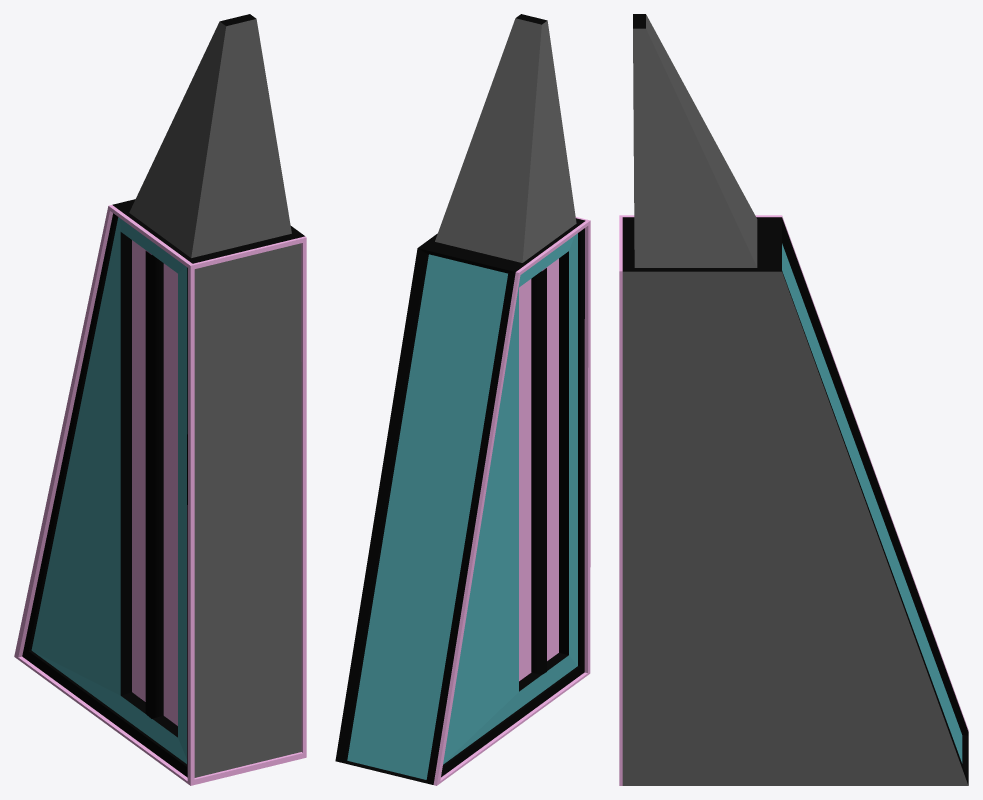
The model's file is SM_Environment_Buildings_Mid_03.fbx.
3 renders of one model, left to right at view 1: azimuth 30°, elevation 25°; view 2: azimuth 150°, elevation 25°; view 3: azimuth 270°, elevation 25°, orthographic. The views are drawn at different scales.
Parts seen in each view (by area): view 1: SM_Environment_Buildings_Mid_03, Lights; view 2: SM_Environment_Buildings_Mid_03, Lights; view 3: SM_Environment_Buildings_Mid_03, Lights.
Part boxes in pixels (x1=…): SM_Environment_Buildings_Mid_03: x1=22, y1=14, x2=304, y2=777; Lights: x1=14, y1=205, x2=306, y2=785; SM_Environment_Buildings_Mid_03: x1=335, y1=14, x2=585, y2=784; Lights: x1=433, y1=217, x2=590, y2=785; SM_Environment_Buildings_Mid_03: x1=622, y1=14, x2=968, y2=785; Lights: x1=619, y1=215, x2=968, y2=785.
Bounding box in the file's own units: 5.85 × 35.74 × 15.35.
